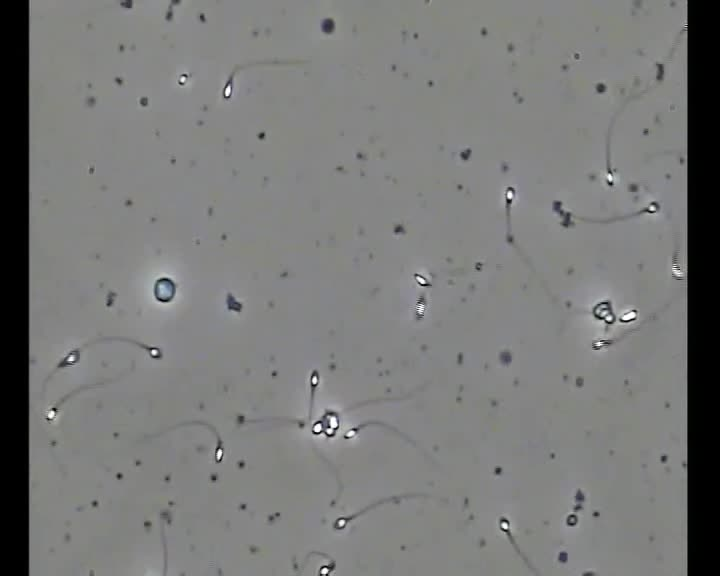spermhead: (153, 277, 176, 303), (57, 348, 79, 367), (592, 300, 612, 320), (413, 271, 431, 287), (325, 410, 339, 430), (222, 74, 233, 99), (415, 294, 426, 318), (619, 309, 638, 322), (318, 561, 335, 575), (333, 516, 349, 530), (671, 262, 684, 279), (504, 186, 516, 204), (499, 516, 511, 534), (560, 212, 574, 227), (592, 339, 611, 350), (45, 406, 58, 421), (147, 346, 162, 359), (309, 370, 319, 389), (645, 200, 659, 213), (177, 72, 190, 86), (605, 168, 615, 186), (311, 420, 323, 435), (215, 440, 223, 462), (343, 427, 357, 439), (604, 312, 616, 325), (324, 426, 337, 437), (552, 200, 562, 213), (505, 234, 514, 244)
